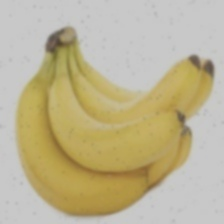banana: (47, 5, 205, 192)
